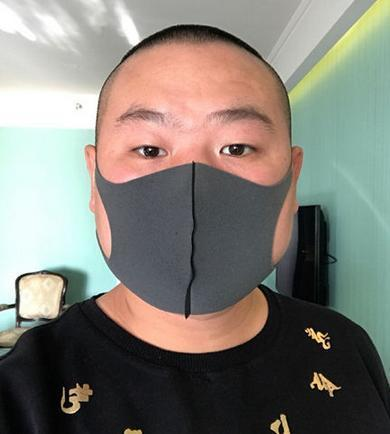Mask: (91, 55, 299, 324)
